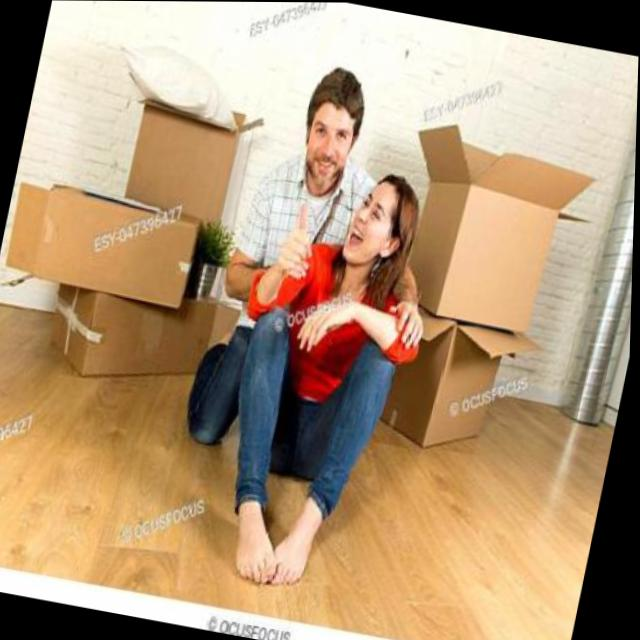box: (381, 106, 633, 354), (87, 18, 304, 245), (0, 161, 215, 336), (377, 289, 561, 477), (29, 258, 245, 401)
